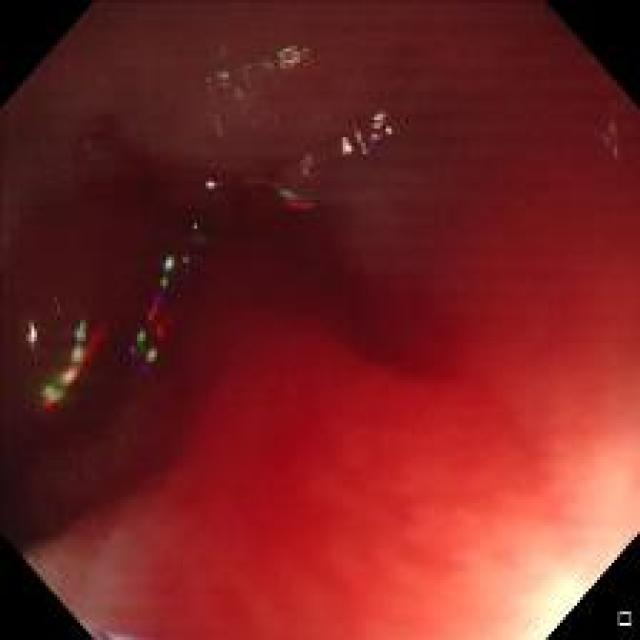blur: (34, 36, 622, 618)
color misalignment: (212, 45, 319, 105), (139, 254, 182, 360), (341, 108, 409, 169), (45, 324, 98, 399), (276, 171, 325, 226), (204, 72, 232, 146), (124, 345, 150, 372), (26, 315, 40, 359), (180, 245, 190, 269), (202, 178, 219, 191)
contrast: (32, 75, 568, 474)
saturation: (502, 528, 628, 636)
